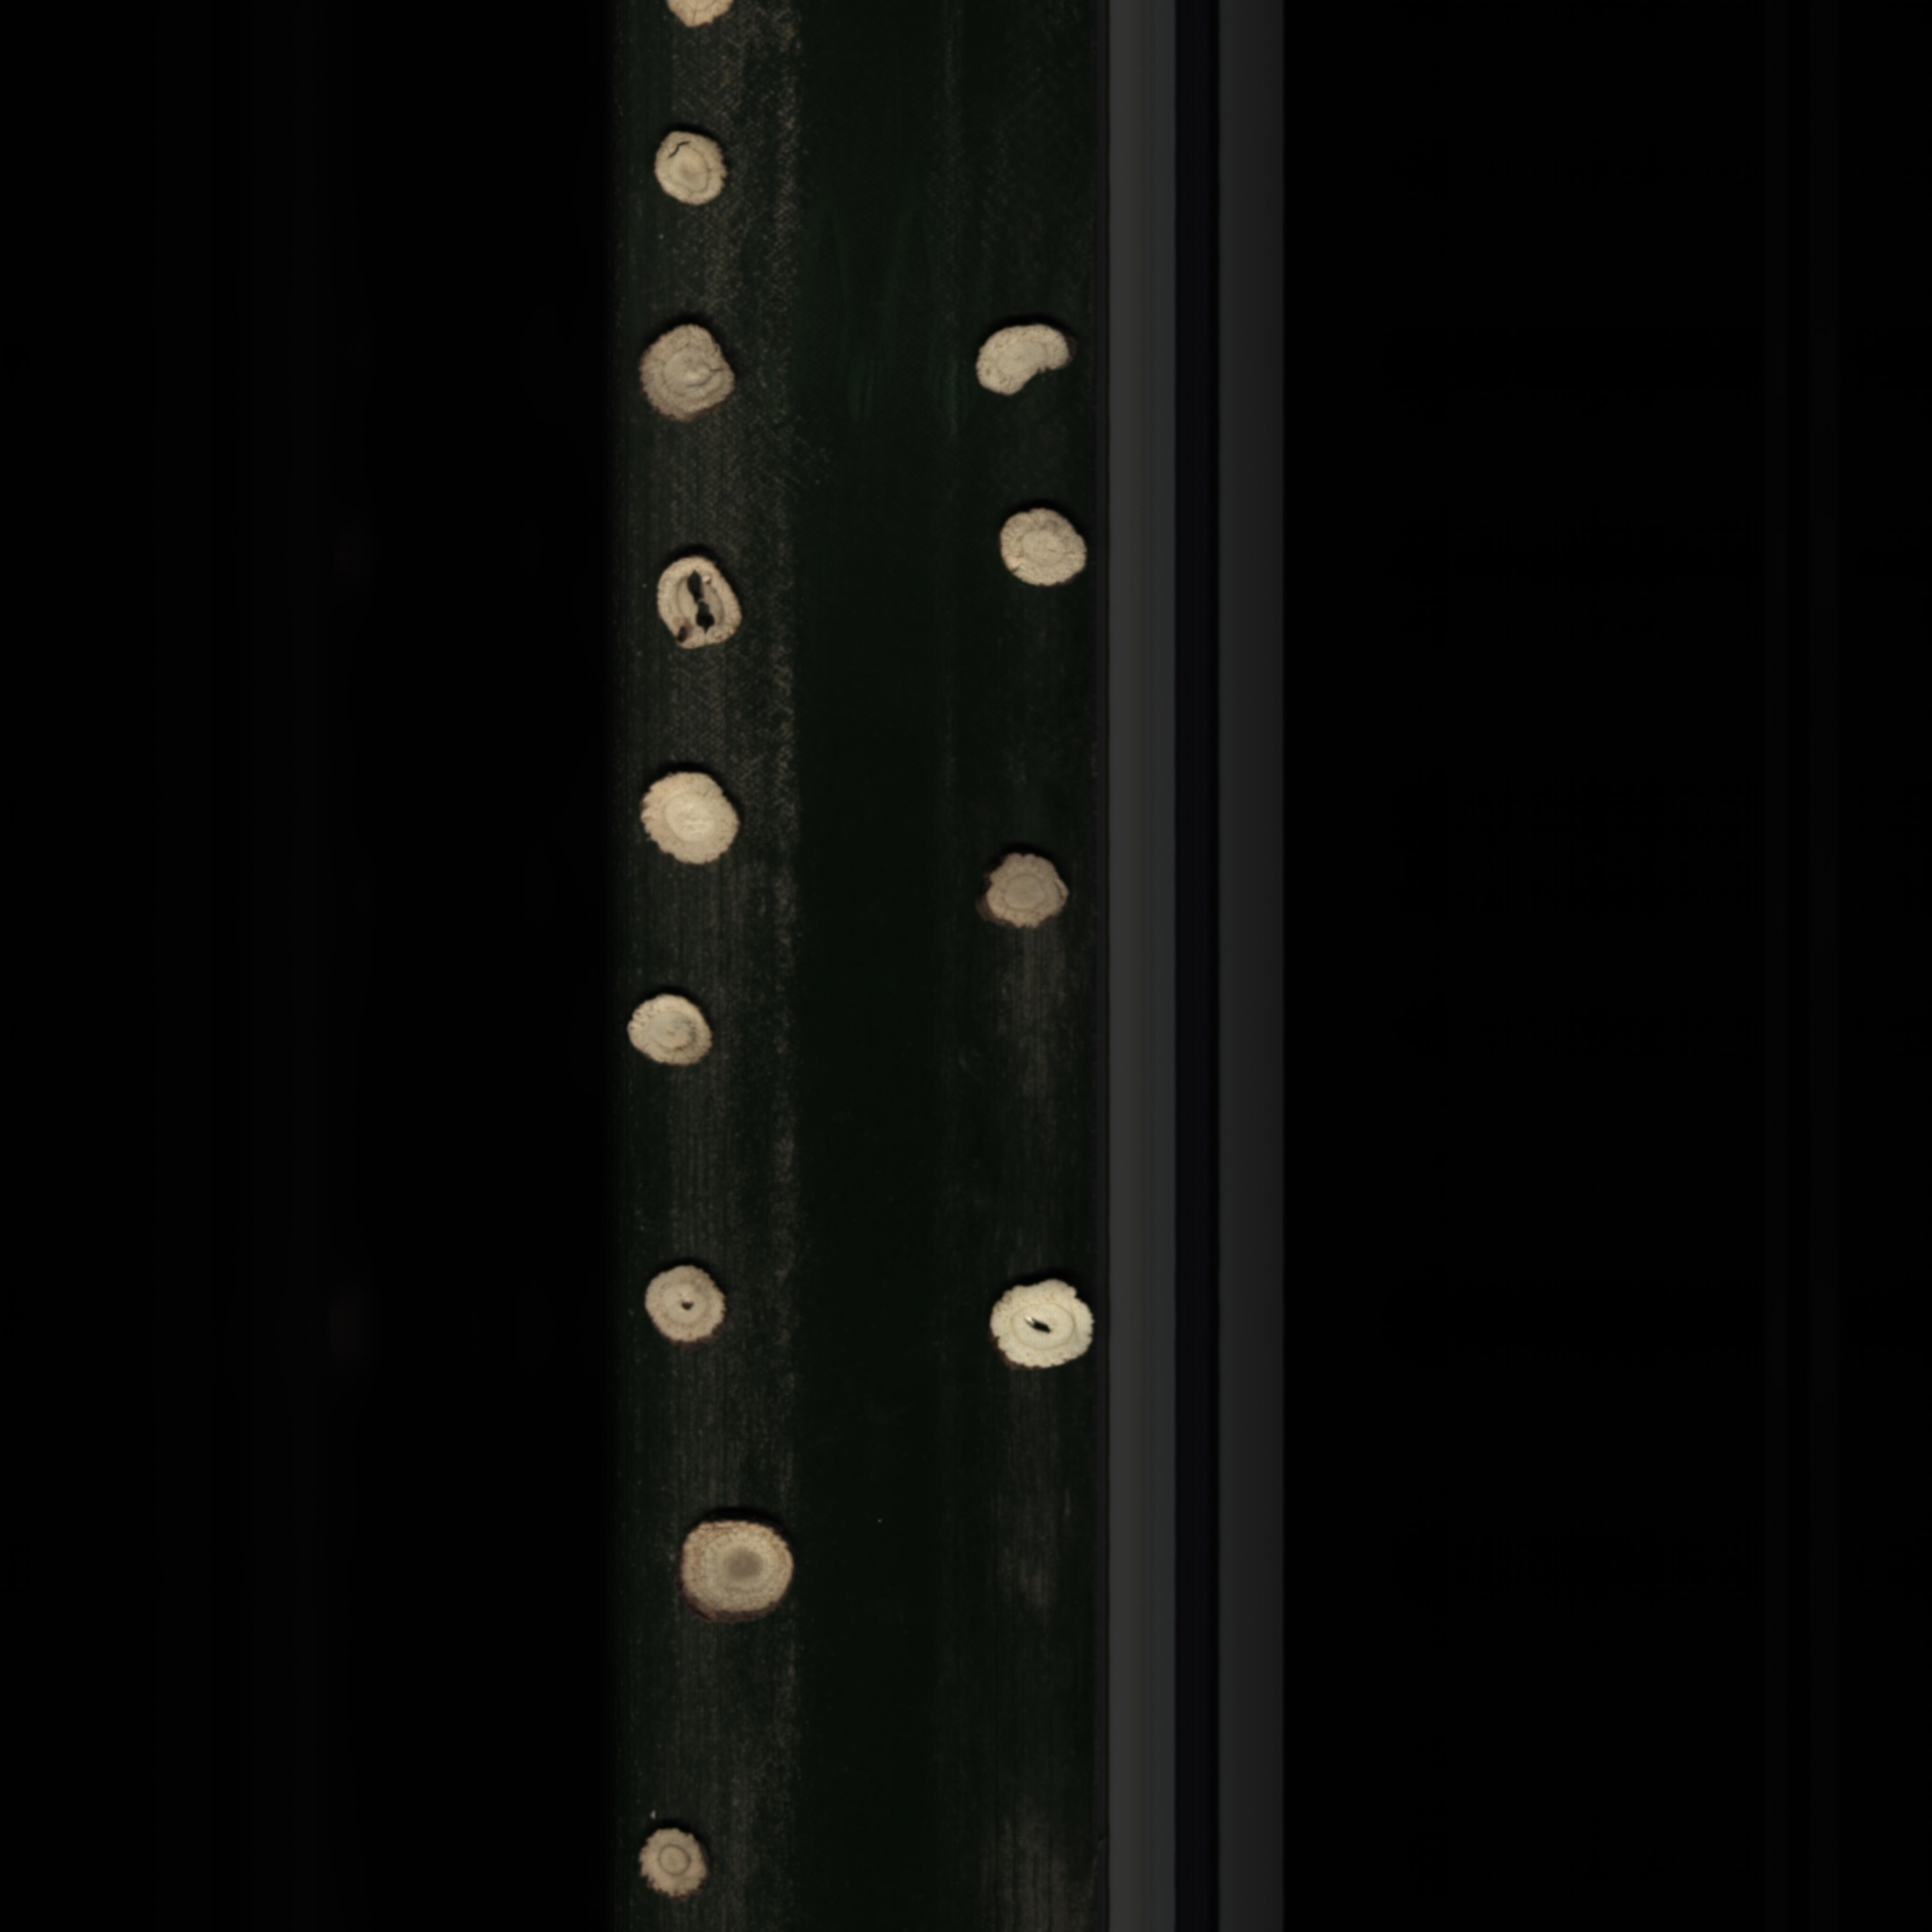debris: (970, 318, 1081, 405)
hole: (648, 552, 755, 658), (980, 1277, 1102, 1371), (633, 1260, 732, 1353), (646, 124, 748, 211)
moldy: (663, 1509, 814, 1631)
